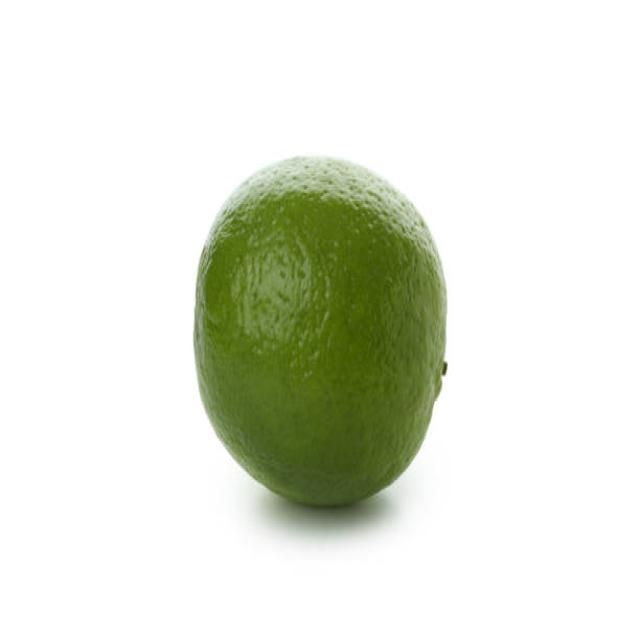Lemon: (190, 152, 451, 507)
